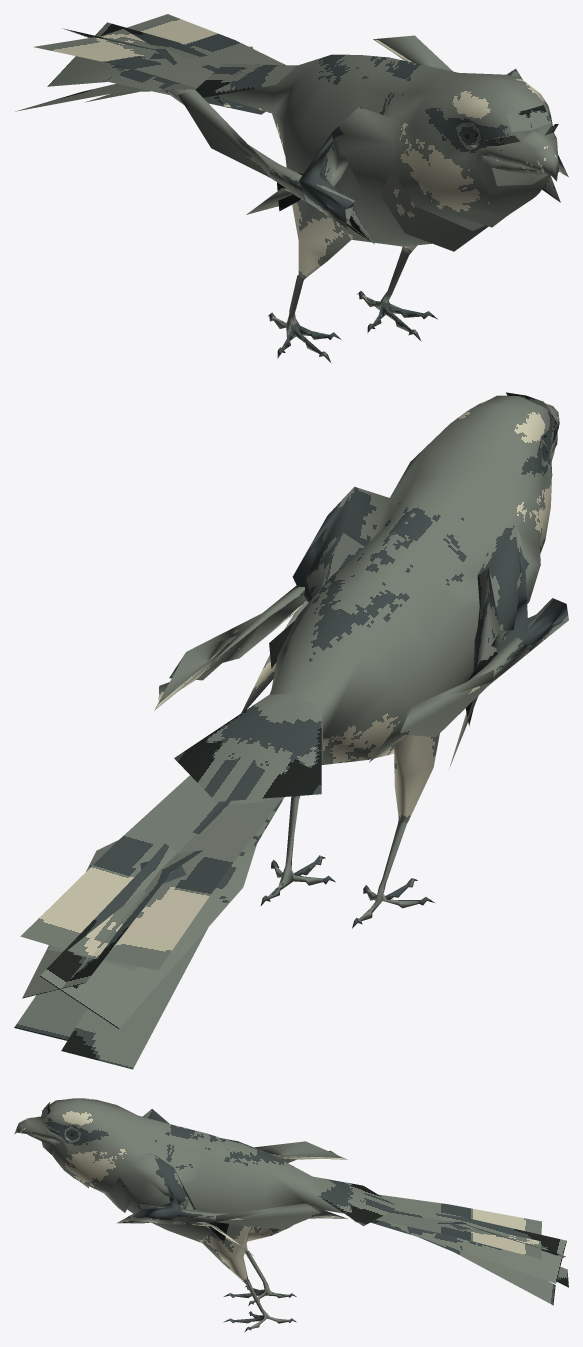
Rendered from bird-grey-wing.glb.
The picture shows the model from 3 angles, top to bottom: view 1: azimuth 30°, elevation 25°; view 2: azimuth 150°, elevation 25°; view 3: azimuth 270°, elevation 25°; orthographic projection. The views are drawn at different scales.
Visible parts, largest first — view 1: bird-grey-wing runtime mesh; view 2: bird-grey-wing runtime mesh; view 3: bird-grey-wing runtime mesh.
Part boxes in pixels (x1,y1,x2,y2): bird-grey-wing runtime mesh: (15, 14, 568, 362); bird-grey-wing runtime mesh: (14, 392, 568, 1069); bird-grey-wing runtime mesh: (14, 1098, 568, 1332).
Bounding box in the file's own units: 0.153 × 0.23 × 0.5526.
1 material, 1 textured.
